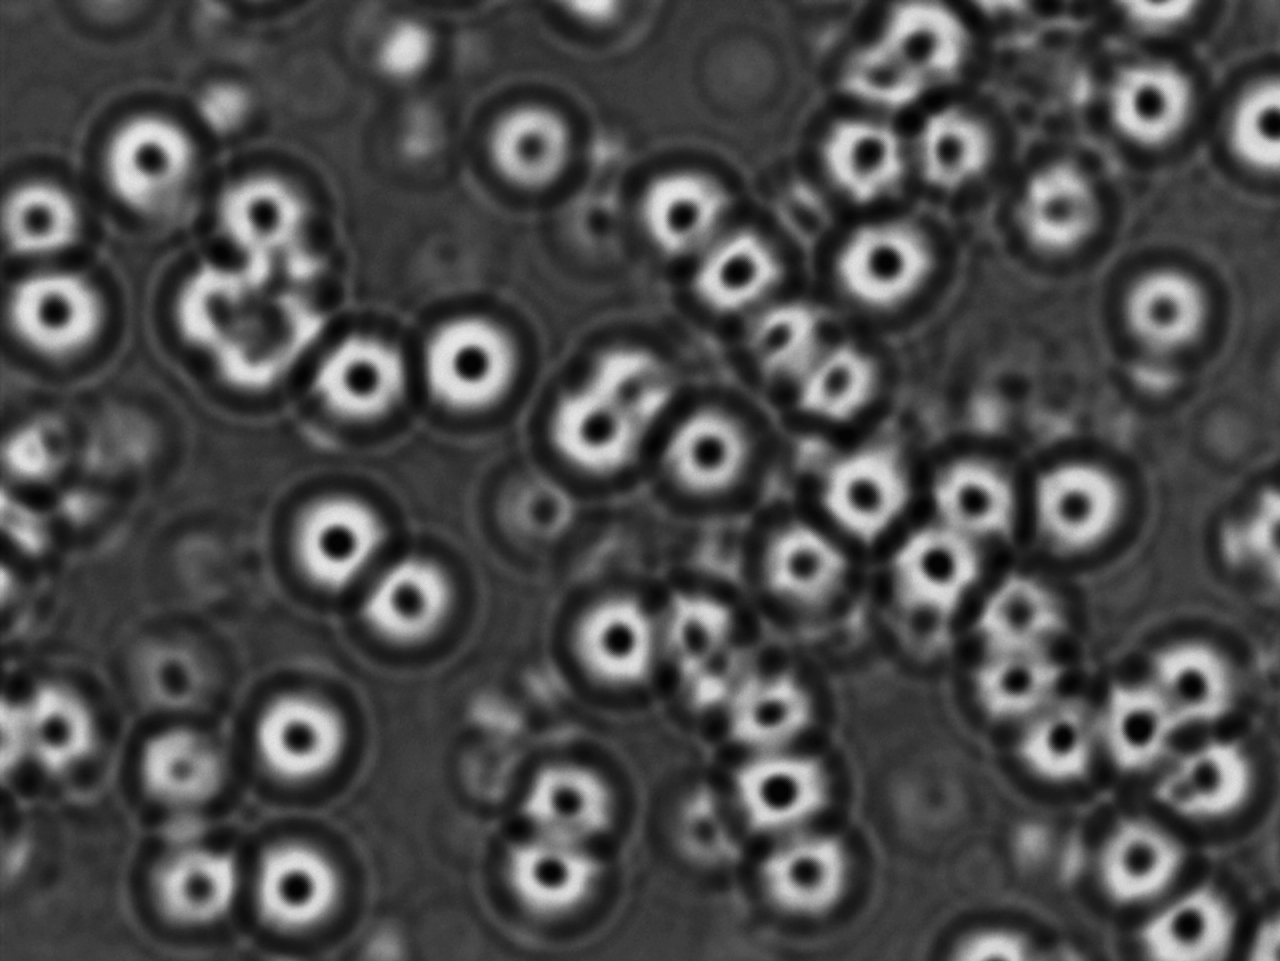depth:24: (240, 671, 377, 798), (269, 480, 402, 606), (412, 299, 537, 430), (2, 245, 126, 377), (348, 546, 475, 672), (1107, 260, 1229, 381), (85, 98, 199, 219), (246, 821, 359, 943), (627, 137, 738, 257), (300, 317, 413, 433), (555, 580, 668, 697), (203, 151, 317, 265), (754, 814, 860, 933), (1027, 446, 1132, 565), (652, 396, 760, 510), (828, 213, 940, 321), (481, 92, 583, 205), (968, 622, 1069, 737), (681, 215, 788, 322), (1147, 619, 1250, 727), (505, 828, 611, 931), (906, 110, 1008, 216), (811, 103, 911, 211), (921, 449, 1029, 547), (538, 383, 636, 489), (1085, 675, 1186, 777), (1086, 810, 1190, 907), (815, 431, 912, 535), (1162, 736, 1261, 837), (763, 518, 861, 617), (1103, 58, 1196, 161), (523, 746, 620, 842), (898, 526, 996, 621), (1012, 698, 1109, 791), (1141, 882, 1249, 961), (733, 743, 825, 829), (1213, 63, 1280, 180)
